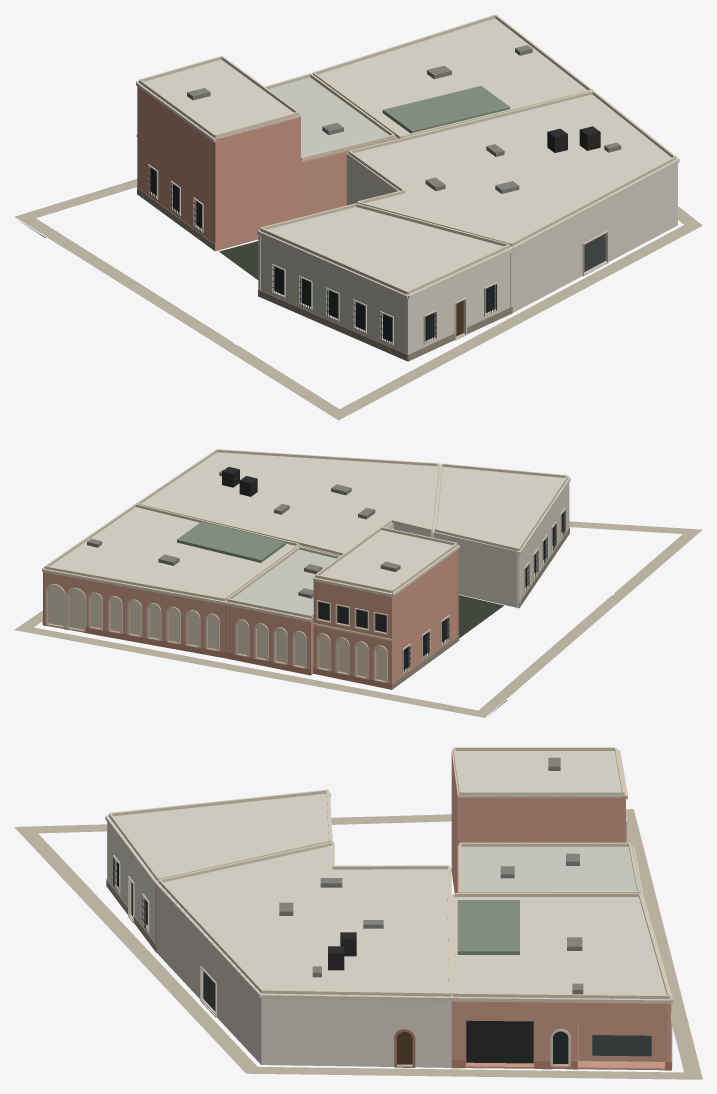
3 views of the same model, one above another, from view 1: azimuth 30°, elevation 25°; view 2: azimuth 150°, elevation 25°; view 3: azimuth 270°, elevation 25° (orthographic). The views are drawn at different scales.
Parts seen in each view (by area): view 1: edificio; view 2: edificio; view 3: edificio.
Boxes of the visible parts, x1=… form: edificio: x1=15, y1=14, x2=702, y2=420; edificio: x1=14, y1=449, x2=702, y2=717; edificio: x1=14, y1=747, x2=702, y2=1079.
Bounding box in the file's own units: 41.12 × 8.83 × 44.19.
